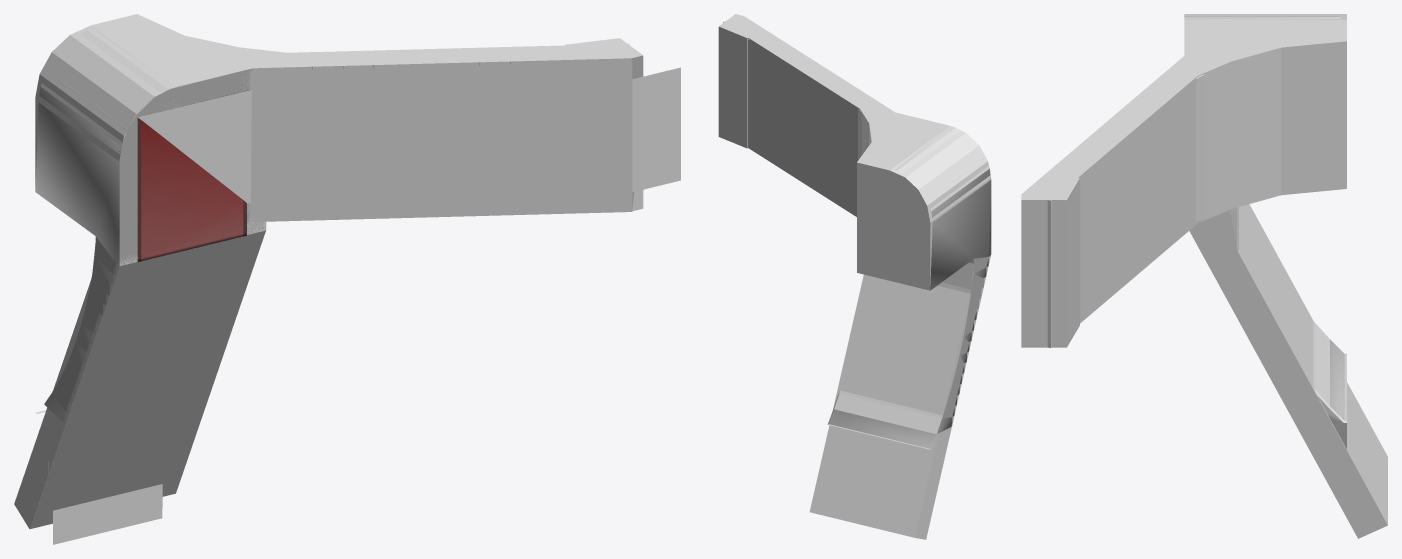
The model's file is red_int_building_conference_staircase.glb.
3 views of the same model, side by side, from view 1: azimuth 30°, elevation 25°; view 2: azimuth 150°, elevation 25°; view 3: azimuth 270°, elevation 25° (orthographic). The views are drawn at different scales.
Parts seen in each view (by area): view 1: c_mover_ramp, dm_marble_dest, dm_carpet_dest, dm_marble_full, g_carpet_dest, c_convex_003, c_convex_004, c_box_002, c_box_001, g_stairs_dest; view 2: c_box_002, c_box_001, c_convex_004, dm_marble_full, dm_marble_dest, c_convex_001, c_convex_003, g_stairs_dest, c_convex_005; view 3: c_box_002, c_box_001, c_convex_004, dm_marble_full, c_convex_003, c_convex_001, c_convex_002, dm_marble_dest.
Boxes of the visible parts, x1,y1,x2,y2 form: c_mover_ramp: (35,61,632,515); dm_marble_dest: (35,55,643,492); dm_carpet_dest: (53,67,680,544); dm_marble_full: (35,17,643,493); g_carpet_dest: (137,90,249,261); c_convex_003: (69,35,242,161); c_convex_004: (35,14,183,186); c_box_002: (14,230,265,529); c_box_001: (252,43,631,71); g_stairs_dest: (40,56,643,433); c_box_002: (809,256,990,539); c_box_001: (723,16,894,216); c_convex_004: (857,142,954,290); dm_marble_full: (720,14,989,449); dm_marble_dest: (829,168,991,448); c_convex_001: (718,20,759,148); c_convex_003: (869,124,991,205); g_stairs_dest: (829,169,990,448); c_convex_005: (942,255,990,288); c_box_002: (1189,204,1387,538); c_box_001: (1022,56,1198,347); c_convex_004: (1281,14,1346,195); dm_marble_full: (1021,16,1346,426); c_convex_003: (1184,14,1281,208); c_convex_001: (1021,178,1079,347); c_convex_002: (1168,56,1235,222); dm_marble_dest: (1328,339,1346,448).
Size of the model in its own units: 8.13 by 8.33 by 5.65.
